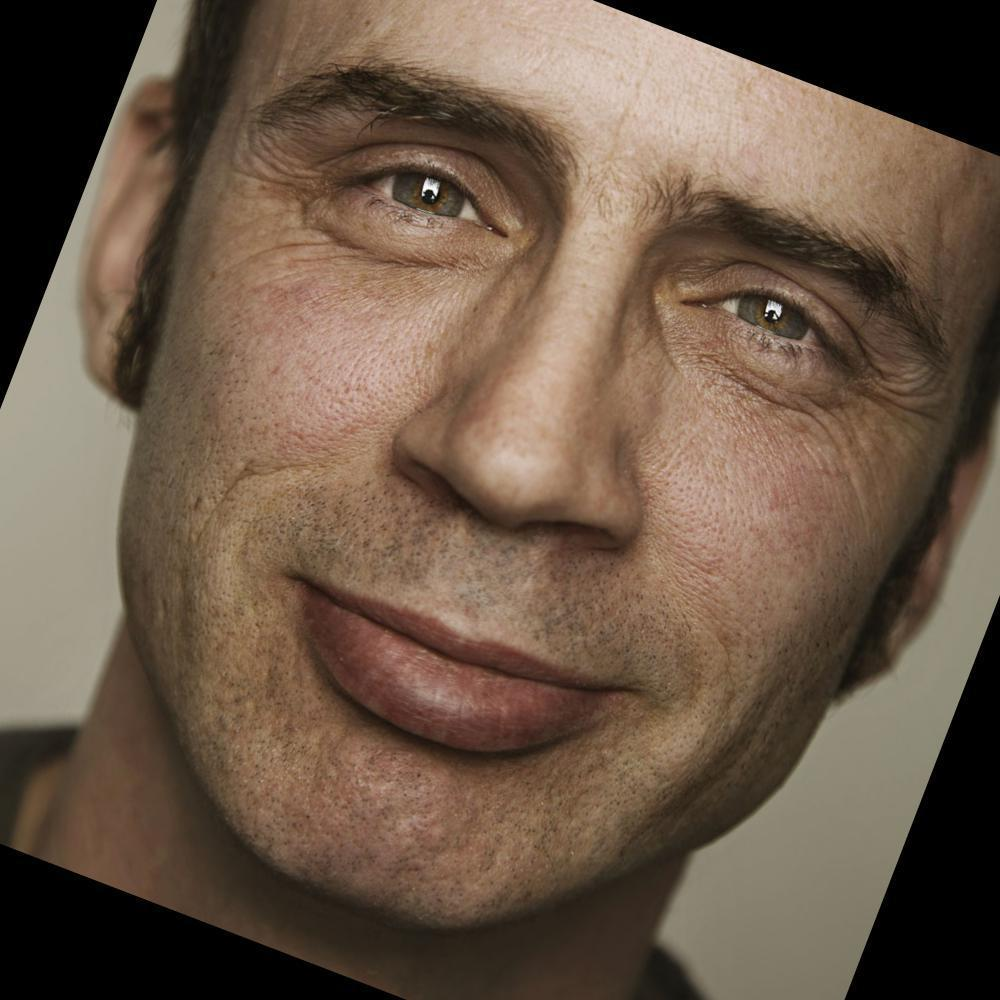Sober: (205, 2, 853, 892)
